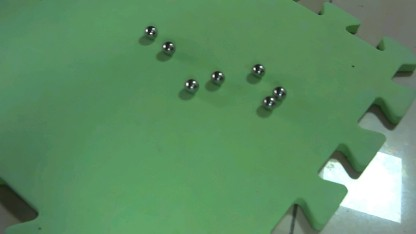ironball: (135, 21, 159, 40), (245, 56, 264, 79), (258, 91, 277, 110), (157, 36, 174, 56), (180, 76, 198, 94), (209, 67, 225, 86), (271, 81, 286, 99)
